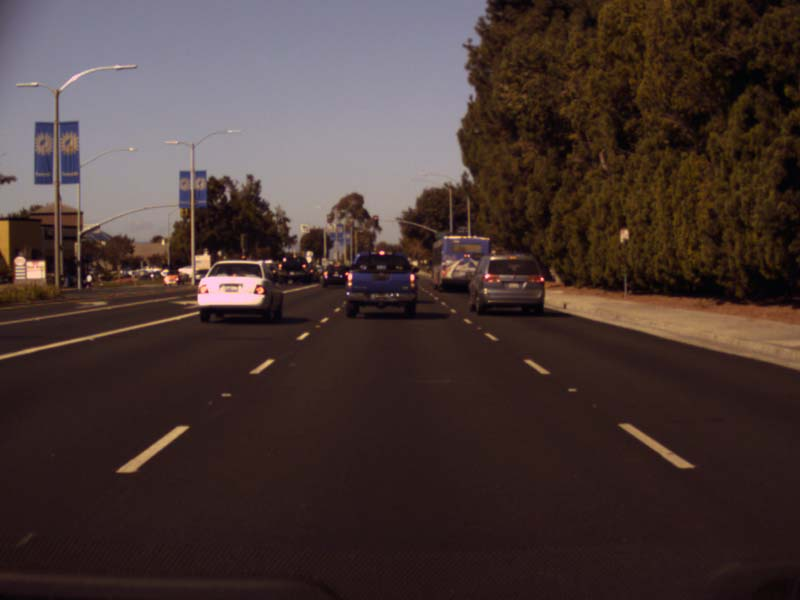Red: (373, 215, 379, 227)
